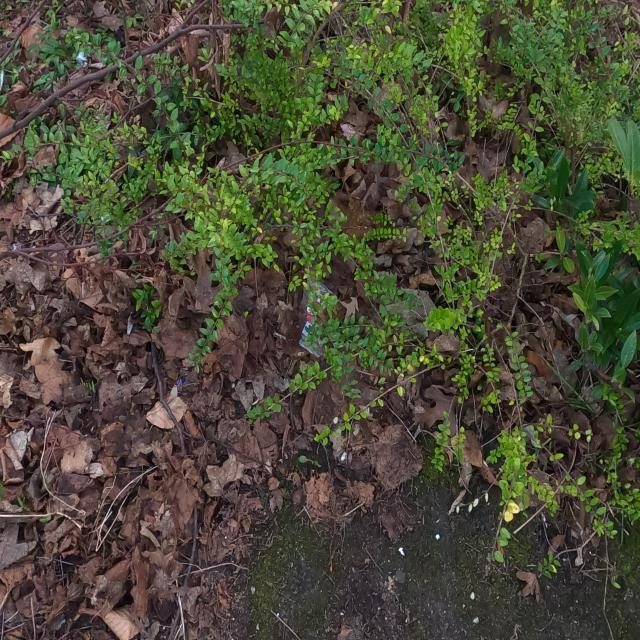Plastic: (298, 282, 338, 358)
